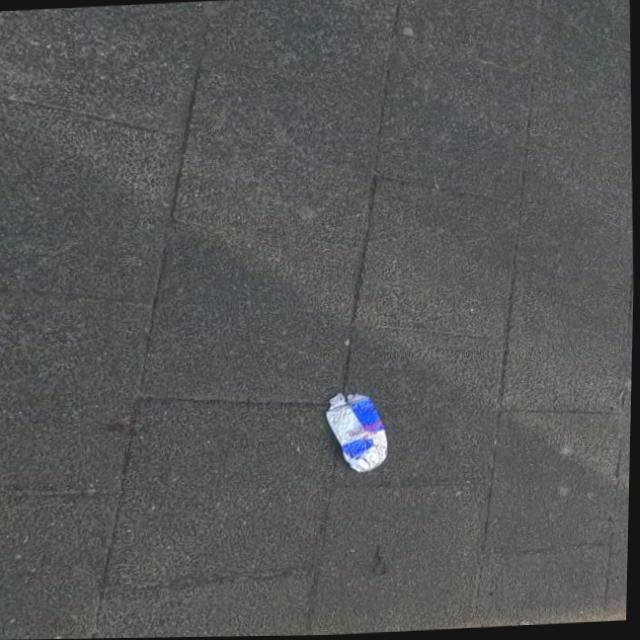Can-Metal: (322, 391, 392, 477)
